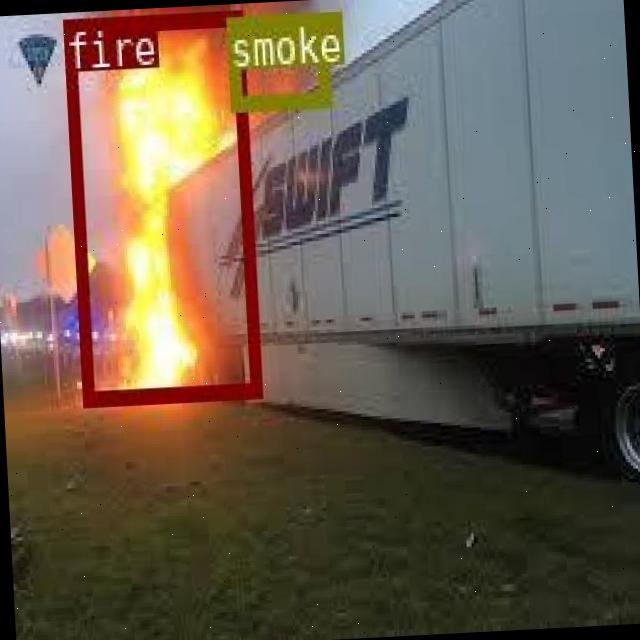fire: (62, 9, 261, 404)
smoke: (224, 12, 329, 108)
